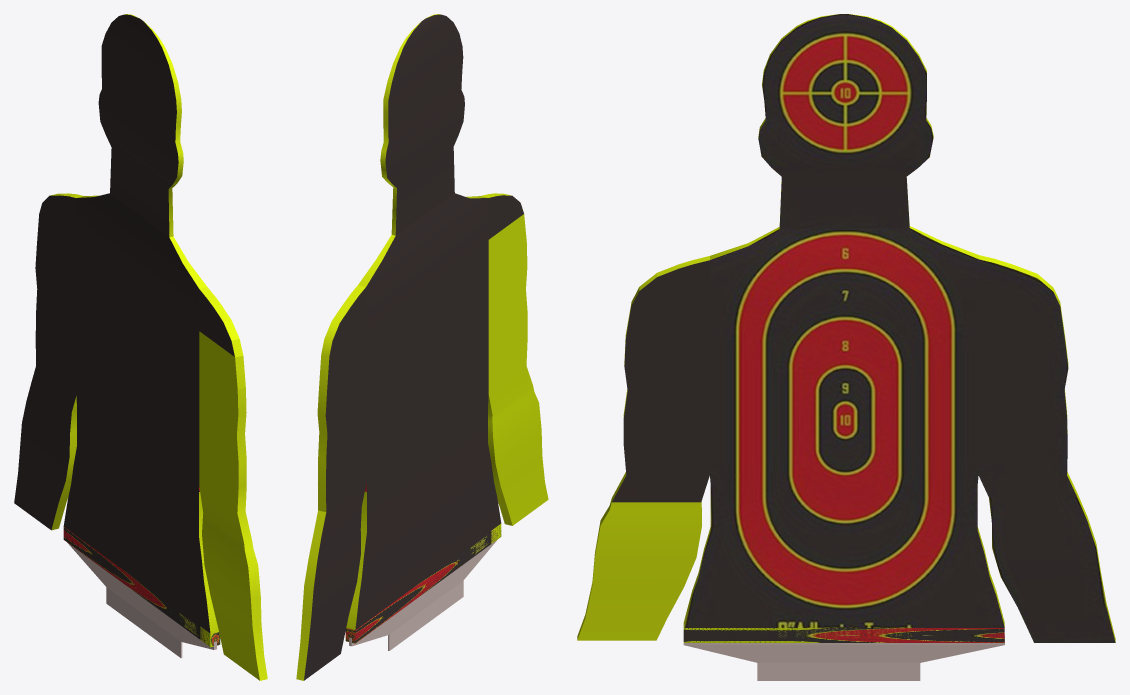
Rendered from DianaParts.fbx.
3 renders of one model, left to right at view 1: azimuth 30°, elevation 25°; view 2: azimuth 150°, elevation 25°; view 3: azimuth 270°, elevation 25°, orthographic. The views are drawn at different scales.
Visible parts, largest first — view 1: Cos, Brazo Izq, Brazo der, Cap, Esquelet; view 2: Cos, Brazo der, Brazo Izq, Cap, Esquelet; view 3: Cos, Brazo der, Brazo Izq, Cap, Esquelet.
Boxes of the visible parts, left/top/right/bottom form: Cos: left=63, top=193, right=220, bottom=647; Brazo Izq: left=199, top=287, right=267, bottom=680; Brazo der: left=14, top=193, right=83, bottom=530; Cap: left=98, top=14, right=183, bottom=237; Esquelet: left=68, top=543, right=216, bottom=658; Cos: left=345, top=193, right=501, bottom=643; Brazo der: left=296, top=285, right=366, bottom=680; Brazo Izq: left=481, top=193, right=548, bottom=525; Cap: left=380, top=14, right=464, bottom=235; Esquelet: left=349, top=539, right=497, bottom=650; Cos: left=683, top=226, right=1004, bottom=642; Brazo der: left=978, top=255, right=1115, bottom=642; Brazo Izq: left=577, top=256, right=709, bottom=640; Cap: left=758, top=14, right=933, bottom=228; Esquelet: left=683, top=635, right=1004, bottom=680.
Bounding box in the file's own units: 8.88 × 518 × 380.
2 materials, 1 textured.
